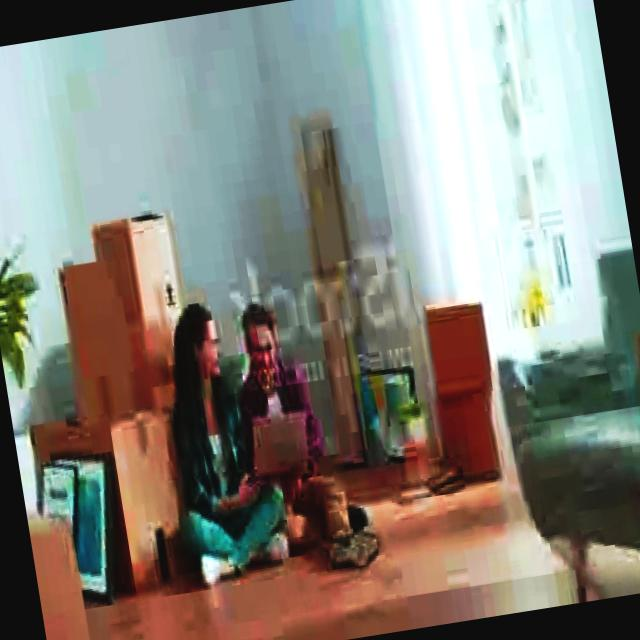Box: (85, 215, 194, 419), (418, 302, 498, 394), (438, 404, 504, 479)
